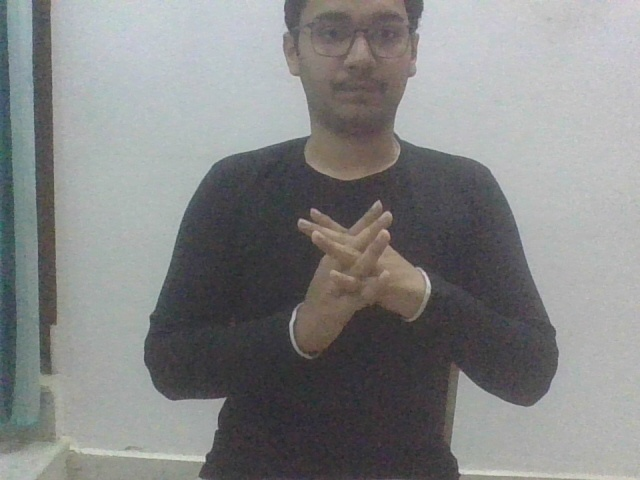W: (291, 197, 426, 353)
